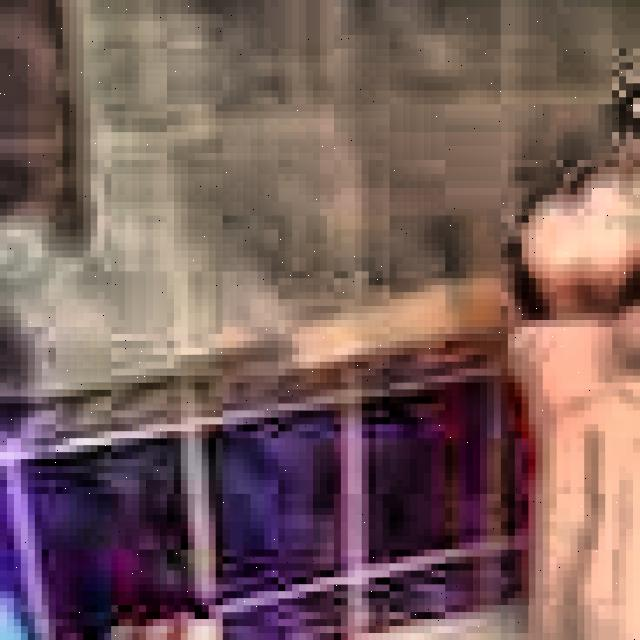knife: (204, 262, 540, 364)
